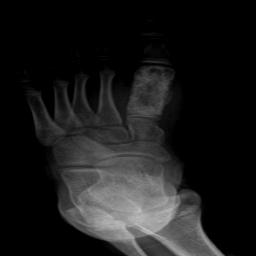cancer: (130, 67, 172, 121)
